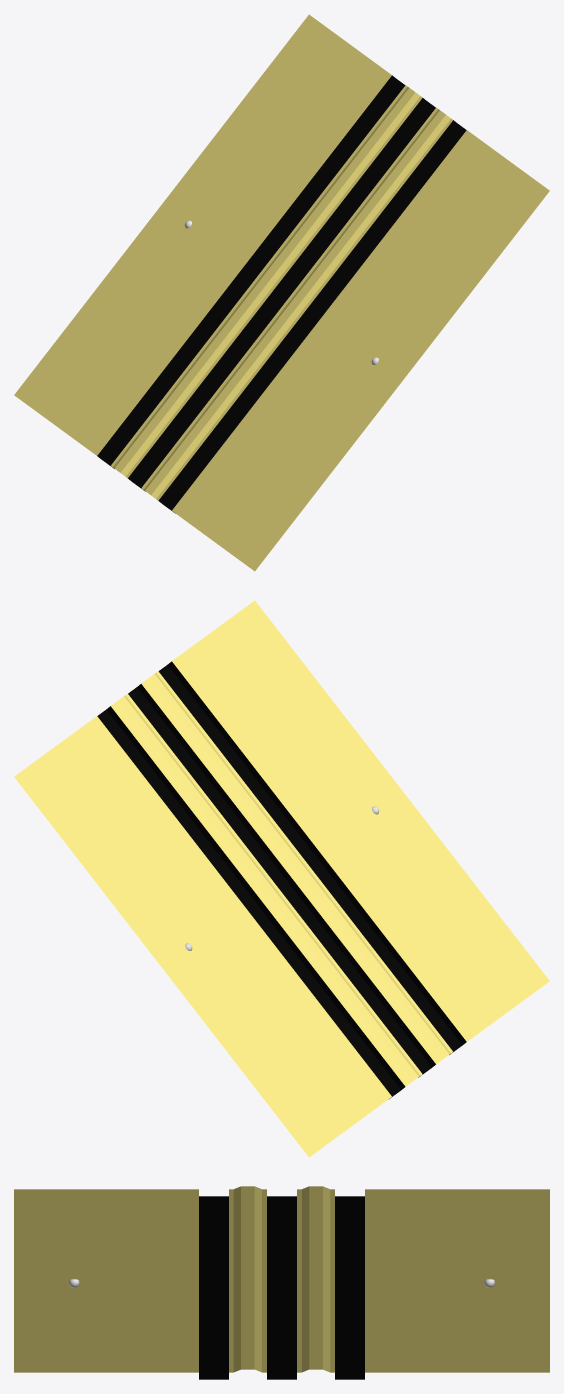
File: LiftRails.fbx
The picture shows the model from 3 angles, top to bottom: view 1: azimuth 30°, elevation 25°; view 2: azimuth 150°, elevation 25°; view 3: azimuth 270°, elevation 25°; orthographic projection. The views are drawn at different scales.
Parts seen in each view (by area): view 1: Plane; view 2: Plane; view 3: Plane.
Boxes of the visible parts, x1,y1,x2,y2 form: Plane: (14,14,549,571); Plane: (14,600,549,1157); Plane: (14,1186,549,1379).
Bounding box in the file's own units: 451 × 451 × 625.
